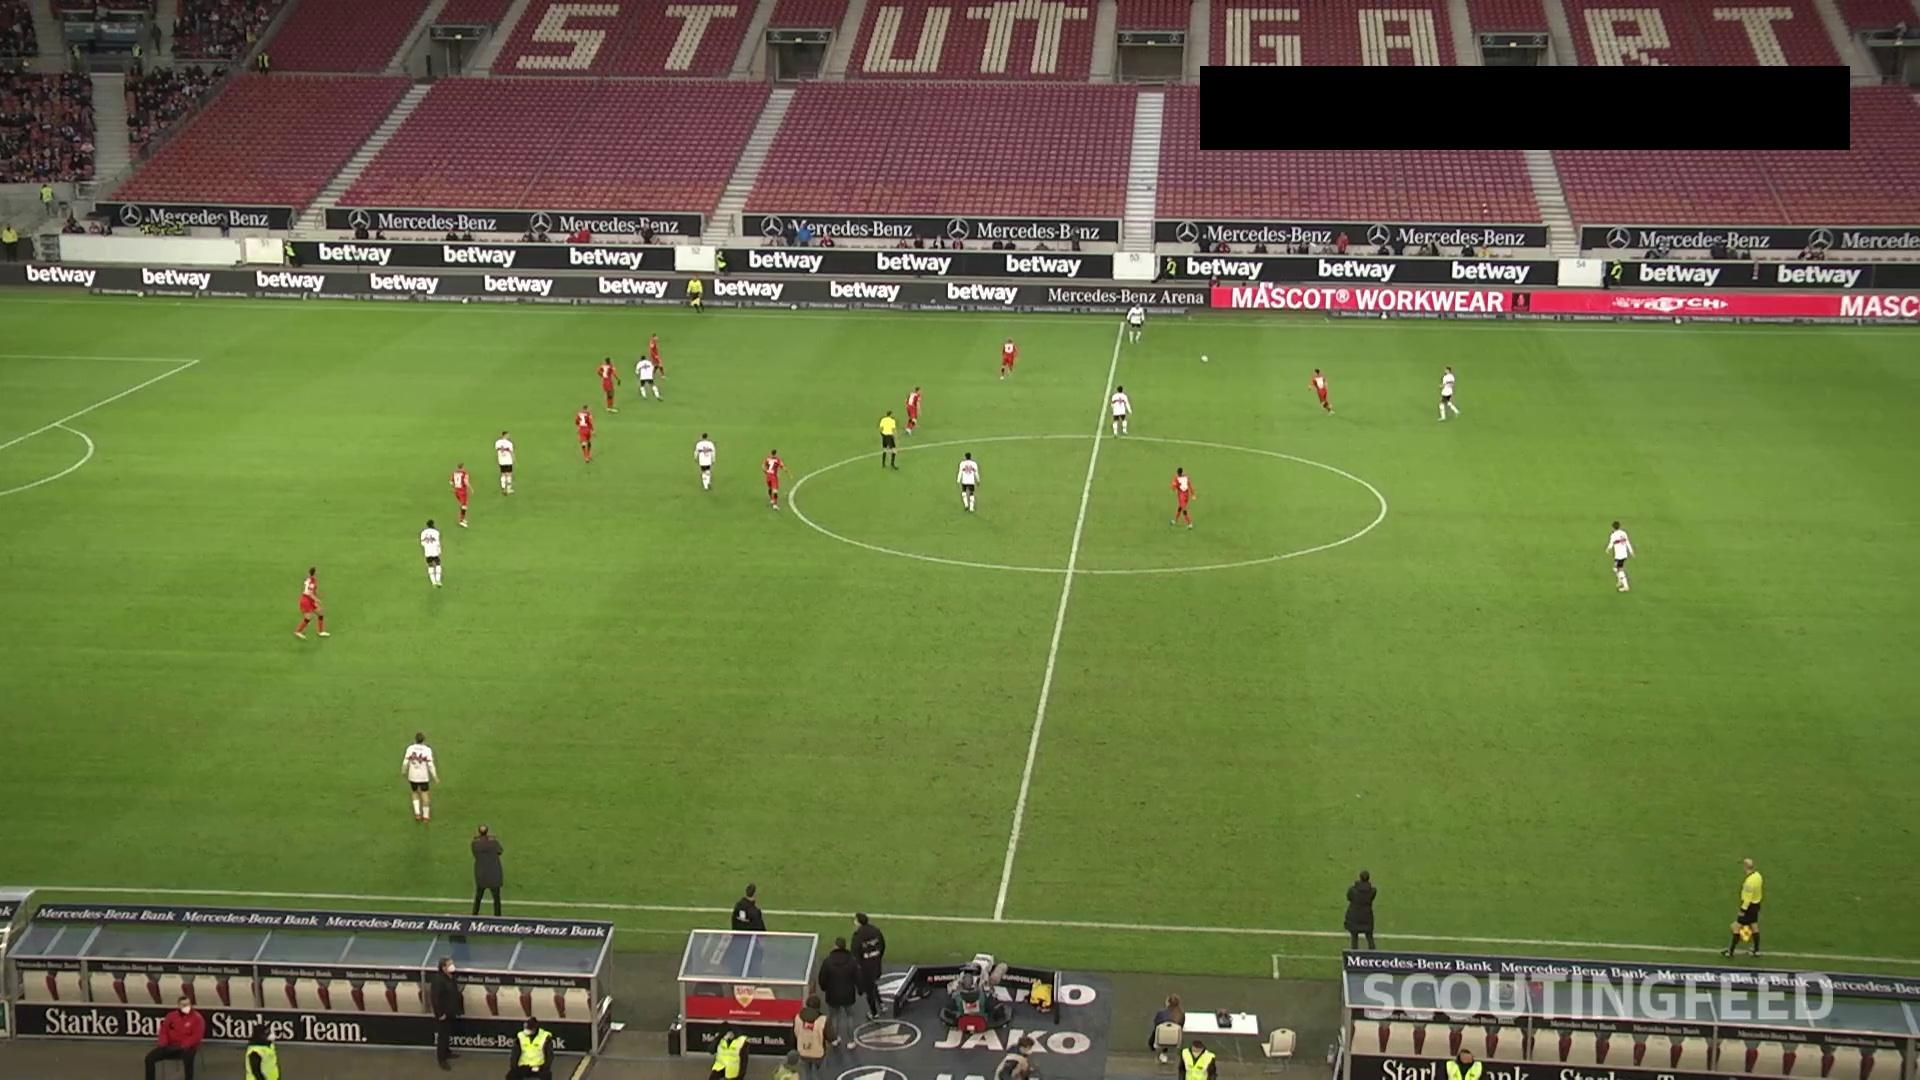Location-of-ball: (1191, 336, 1218, 377)
